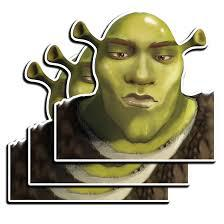mewing: (96, 12, 184, 144)
